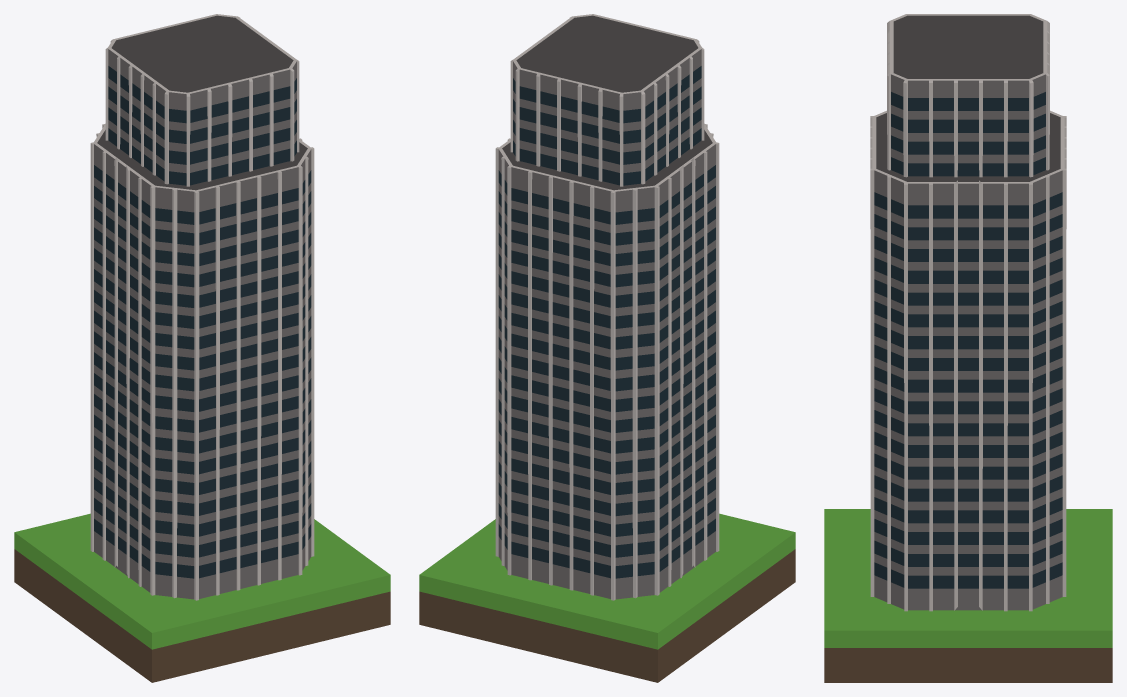
File: skyscraper-huge.glb
3 renders of one model, left to right at view 1: azimuth 30°, elevation 25°; view 2: azimuth 150°, elevation 25°; view 3: azimuth 270°, elevation 25°, orthographic. The views are drawn at different scales.
Parts seen in each view (by area): view 1: skyscraper-huge; view 2: skyscraper-huge; view 3: skyscraper-huge.
Boxes of the visible parts, bbox=[...] form: skyscraper-huge: bbox=[14, 14, 390, 682]; skyscraper-huge: bbox=[419, 14, 795, 682]; skyscraper-huge: bbox=[824, 14, 1112, 682].
Size of the model in its own units: 30 by 66 by 30.
Materials: 1 (1 with a texture image).
